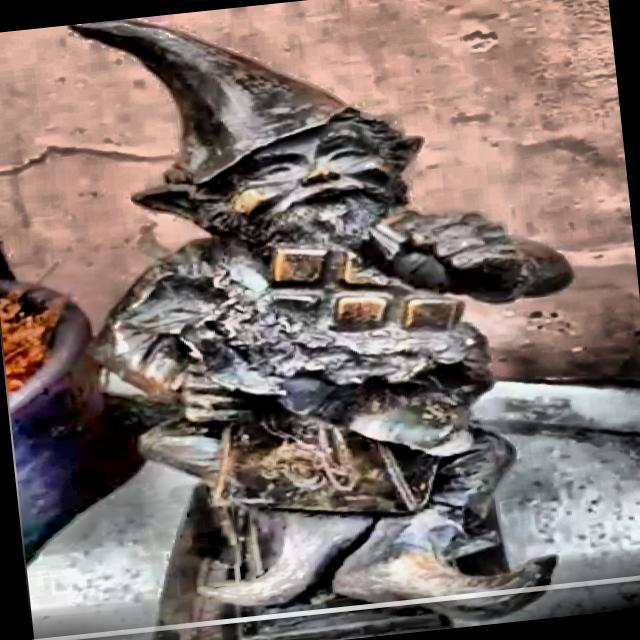Wedelek: (72, 19, 570, 640)
